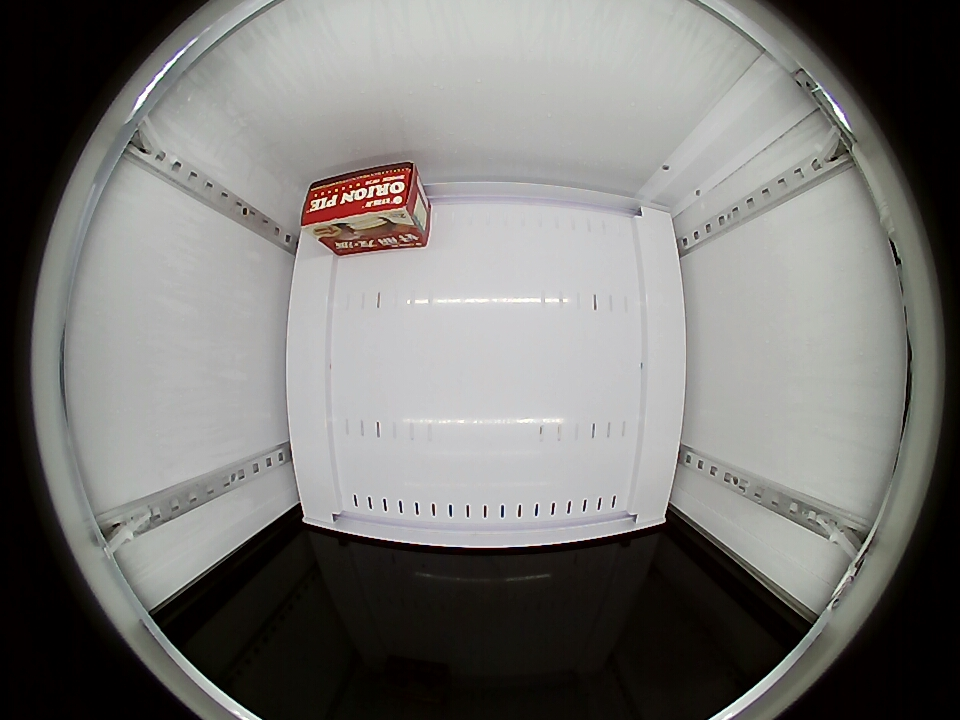haoliyou: (302, 161, 423, 246)
